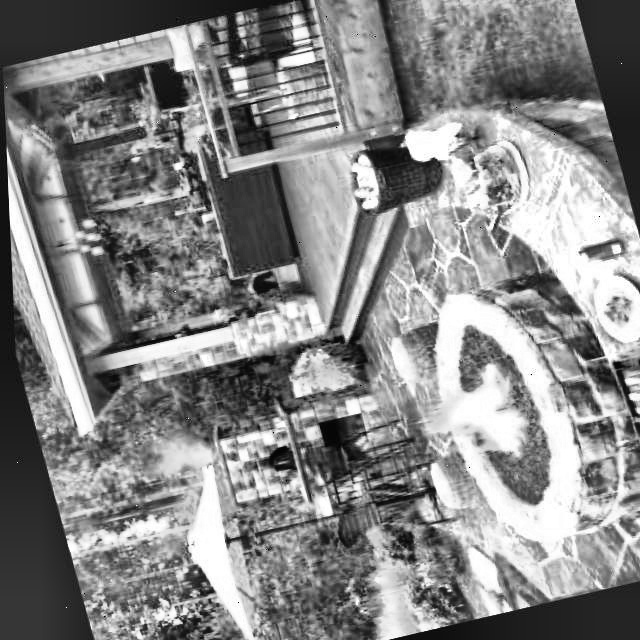Fire: (407, 380, 525, 462)
